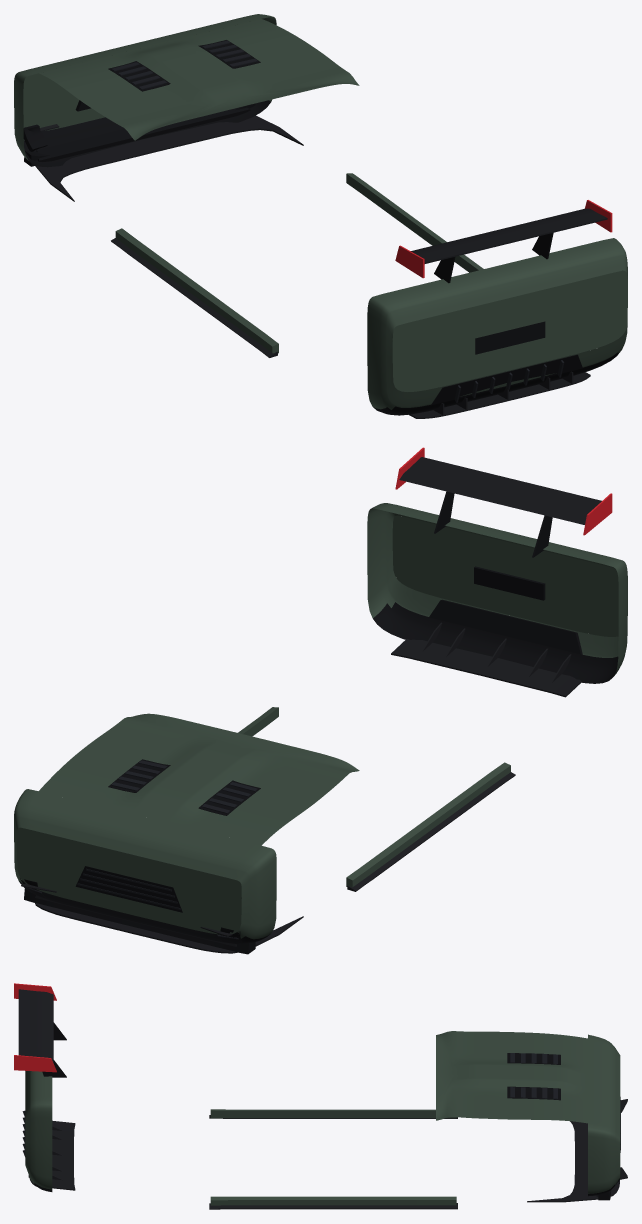
The model's file is kit_track.glb.
3 renders of one model, top to bottom at view 1: azimuth 30°, elevation 25°; view 2: azimuth 150°, elevation 25°; view 3: azimuth 270°, elevation 25°, orthographic. The views are drawn at different scales.
Parts seen in each view (by area): view 1: bumper_front__track, hood__track, bumper_rear__track, skirts__track, spoiler__track; view 2: bumper_front__track, hood__track, bumper_rear__track, spoiler__track, skirts__track; view 3: hood__track, bumper_front__track, skirts__track, bumper_rear__track, spoiler__track.
Boxes of the visible parts, left/top/right/bottom form: bumper_front__track: left=14, top=14, right=627, bottom=391; hood__track: left=39, top=19, right=359, bottom=140; bumper_rear__track: left=367, top=238, right=627, bottom=418; skirts__track: left=111, top=173, right=483, bottom=357; spoiler__track: left=395, top=200, right=612, bottom=283; bumper_front__track: left=14, top=515, right=618, bottom=954; hood__track: left=39, top=713, right=359, bottom=845; bumper_rear__track: left=367, top=503, right=627, bottom=697; spoiler__track: left=395, top=447, right=612, bottom=557; skirts__track: left=238, top=707, right=515, bottom=891; hood__track: left=436, top=1031, right=587, bottom=1123; bumper_front__track: left=527, top=1034, right=627, bottom=1202; skirts__track: left=209, top=1109, right=457, bottom=1209; bumper_rear__track: left=22, top=1071, right=75, bottom=1191; spoiler__track: left=14, top=983, right=66, bottom=1077.
Size of what is drawn, in the model's own units: 1.96 by 1.36 by 5.27.
